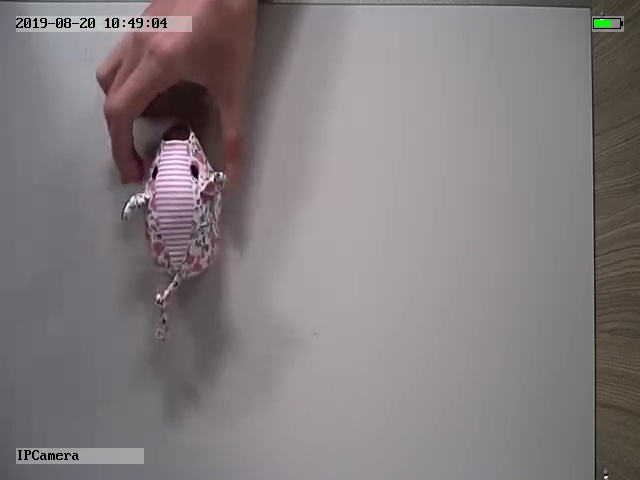pig: (121, 125, 229, 341)
